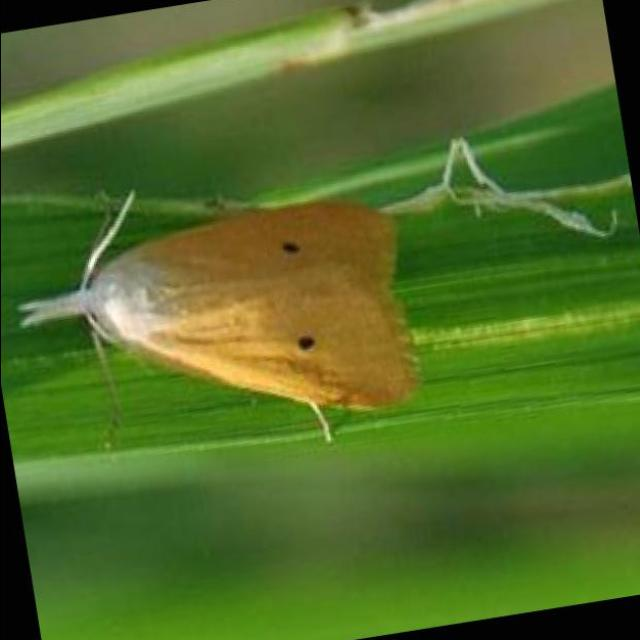stem borer: (20, 193, 413, 447)
